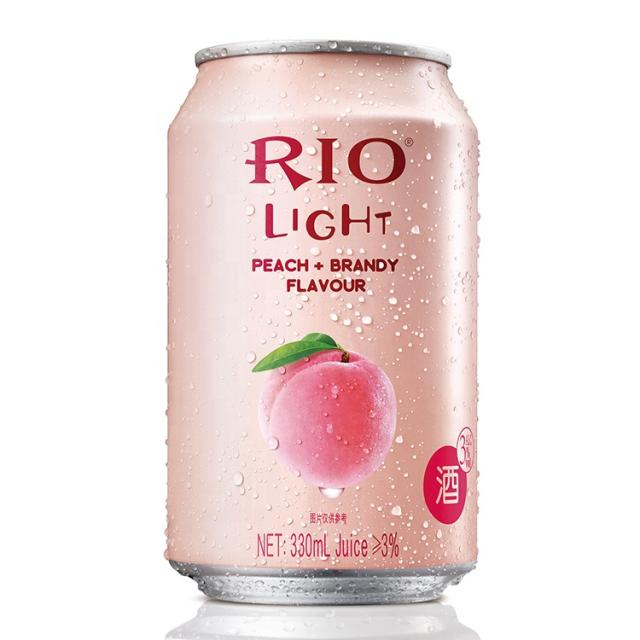can: (165, 36, 479, 604)
